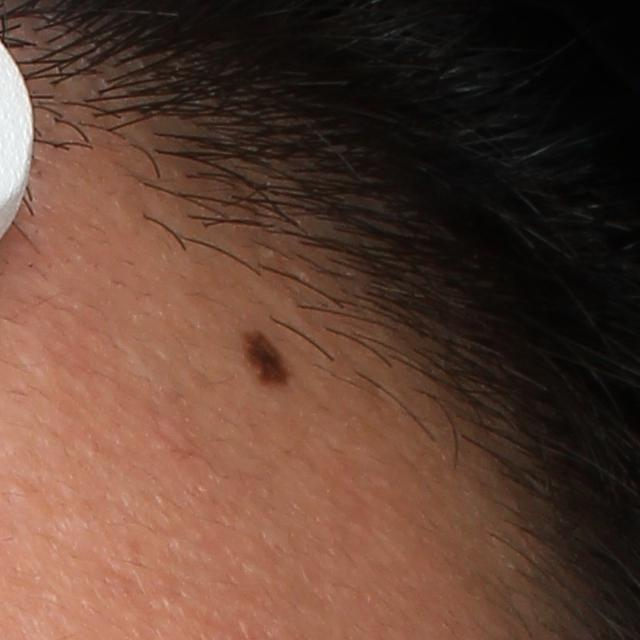nevus: (239, 324, 296, 393)
